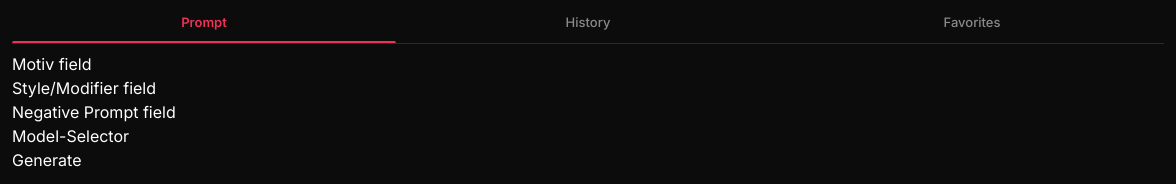
Test: Prompt Tabs Container › AC-7: should display placeholder text "Favorite prompts will appear here." in Favorites tab
// Switch to Favorites tab
What coordinates should you click on to do the following:
click the tab with test id "tab-favorites"
I would click on:
 (972, 27)
Its box is [780,12,1164,42].
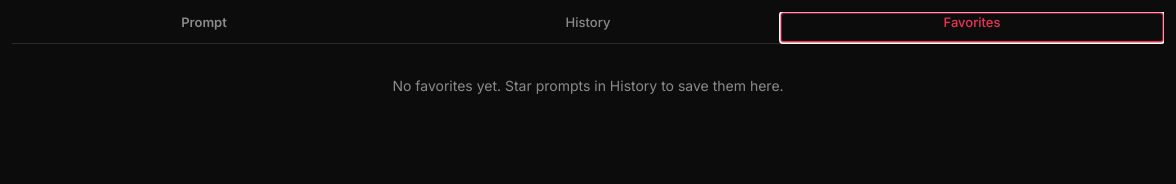
Expected: the text "No favorites yet. Star prompts in History to save them here." is shown, [392,76,784,94]
